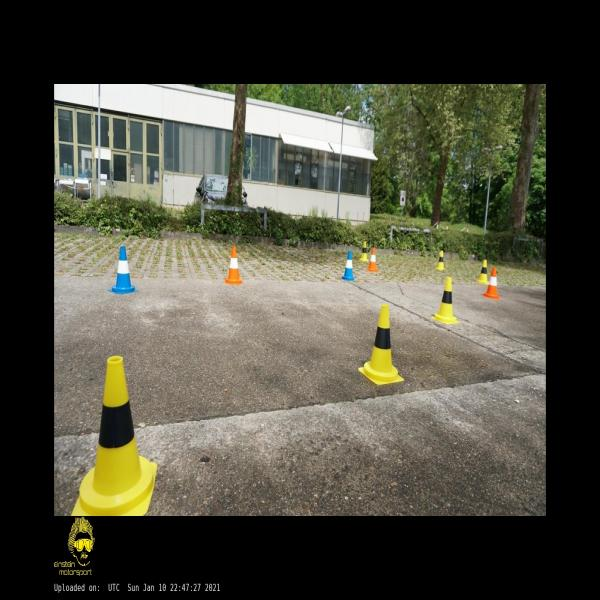blue_cone: (108, 246, 138, 294), (341, 251, 354, 280)
orange_cone: (224, 246, 242, 284), (482, 267, 500, 299), (367, 247, 378, 272)
yellow_cone: (71, 356, 157, 515), (358, 305, 404, 385), (432, 278, 460, 324), (476, 260, 489, 284), (359, 241, 369, 262), (435, 250, 445, 270)
